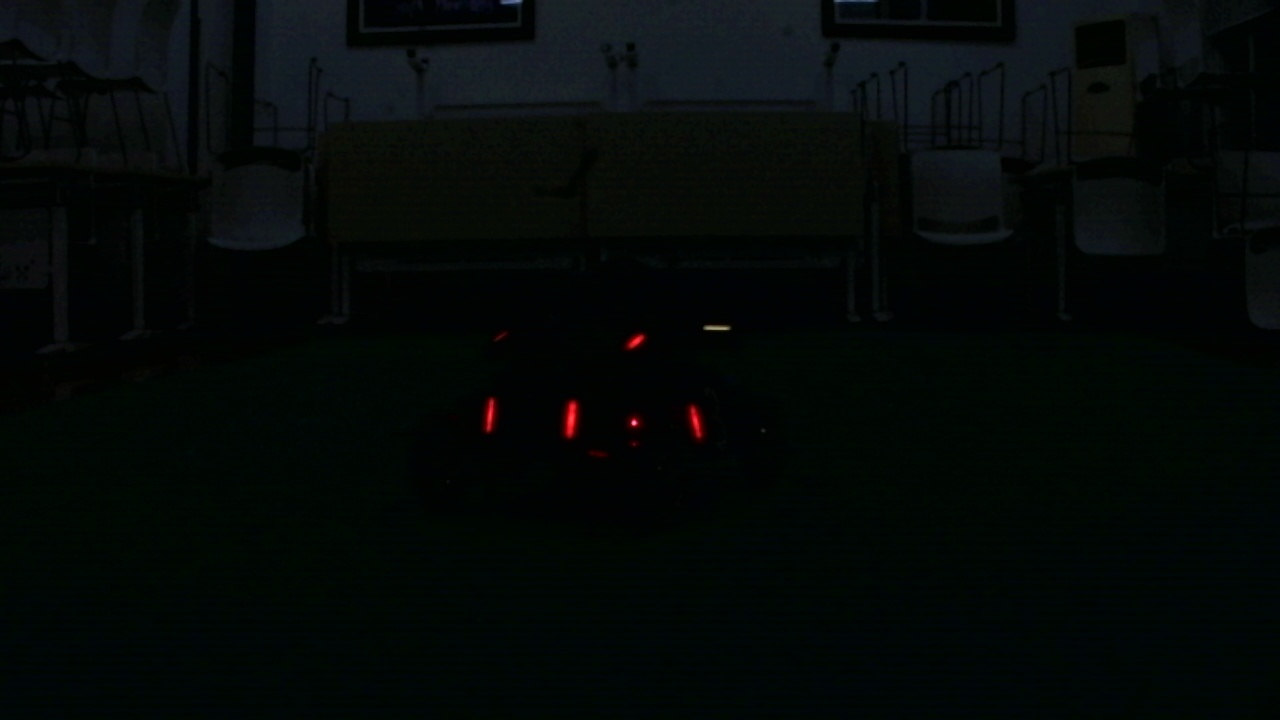lamp: (561, 395, 578, 440), (484, 391, 498, 436), (687, 406, 703, 441)
pair1: (483, 396, 578, 433)
